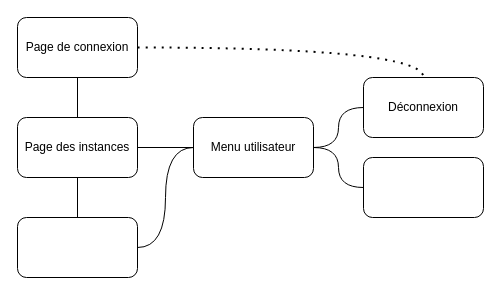
The diagram is 501 pixels wide and 295 high, and some of its shapes have lost their labels. The box of each missing label's shape, as (x1, y1, x2, y2) in pixels:
Page de l'instance sélectionnée: (16, 216, 138, 278)
Paramètres utilisateur: (362, 156, 484, 218)
